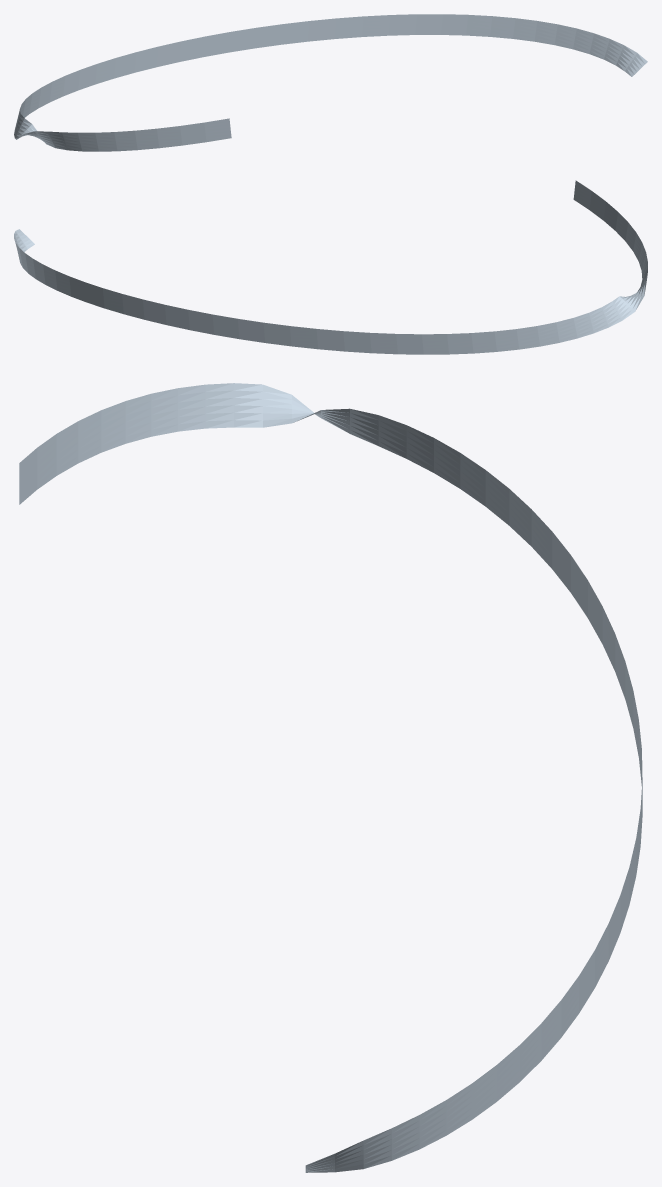
Rendered from 2084_WateryRebirth_Overall_OwnRebirthFlow_9.fbx.
The picture shows the model from 3 angles, top to bottom: view 1: azimuth 30°, elevation 25°; view 2: azimuth 150°, elevation 25°; view 3: azimuth 270°, elevation 25°; orthographic projection. The views are drawn at different scales.
Visible parts, largest first — view 1: PART_Hydro_OwnRebirthFlow_9; view 2: PART_Hydro_OwnRebirthFlow_9; view 3: PART_Hydro_OwnRebirthFlow_9.
Part boxes in pixels (x1,y1,x2,y2): PART_Hydro_OwnRebirthFlow_9: (14,14,647,151); PART_Hydro_OwnRebirthFlow_9: (14,180,647,354); PART_Hydro_OwnRebirthFlow_9: (19,383,642,1172).
Bounding box in the file's own units: 226 × 43.88 × 98.2.
